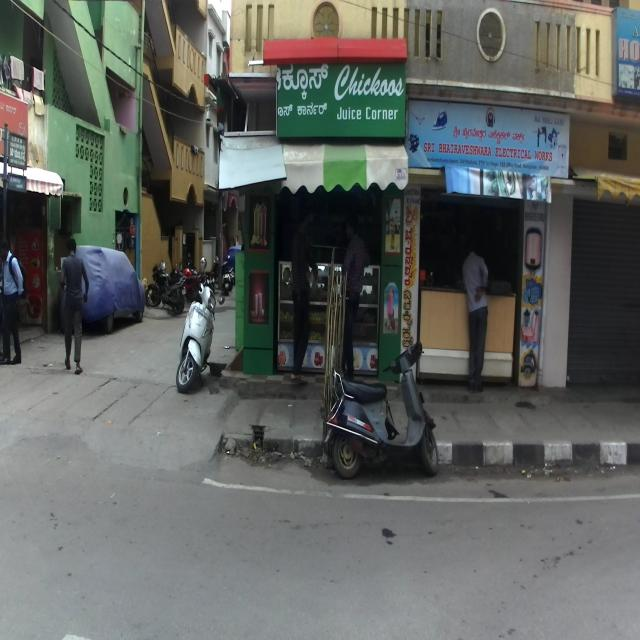car: (58, 244, 145, 335)
scooter: (323, 342, 439, 479), (175, 255, 225, 392)
